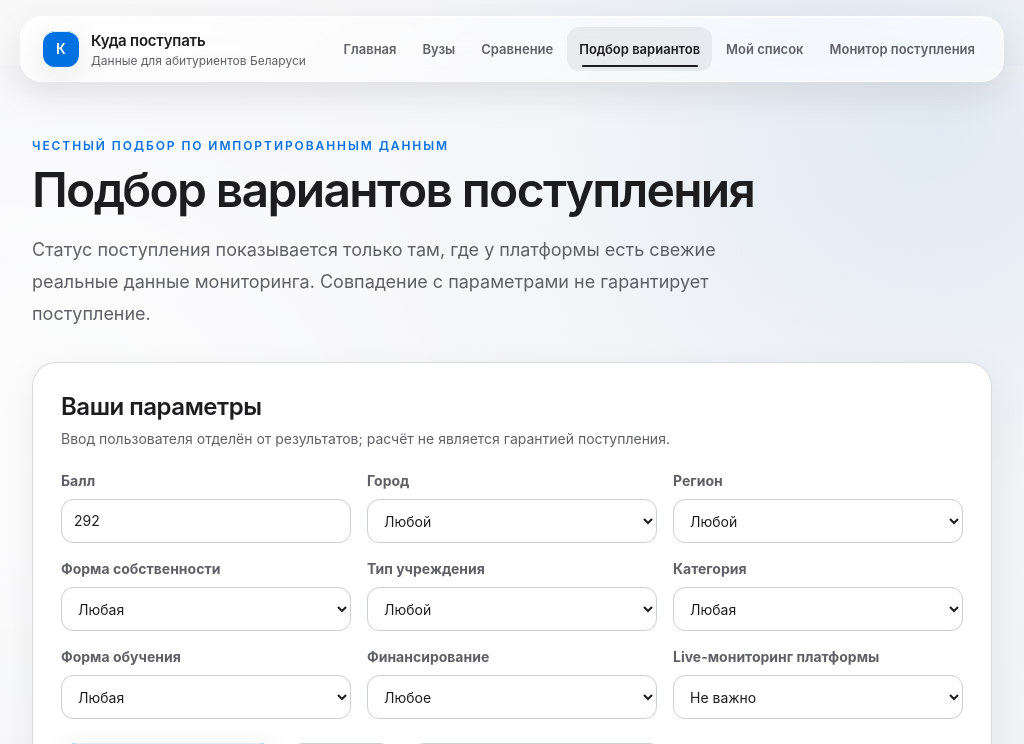
recommendations route, URL and profile score › prefills an existing score, edits URL without overwrite, and saves only explicitly
Replace the text in the number field labelled "Балл" with "300" at (206, 521), box left=61, top=499, right=351, bottom=543
(page scrolled)
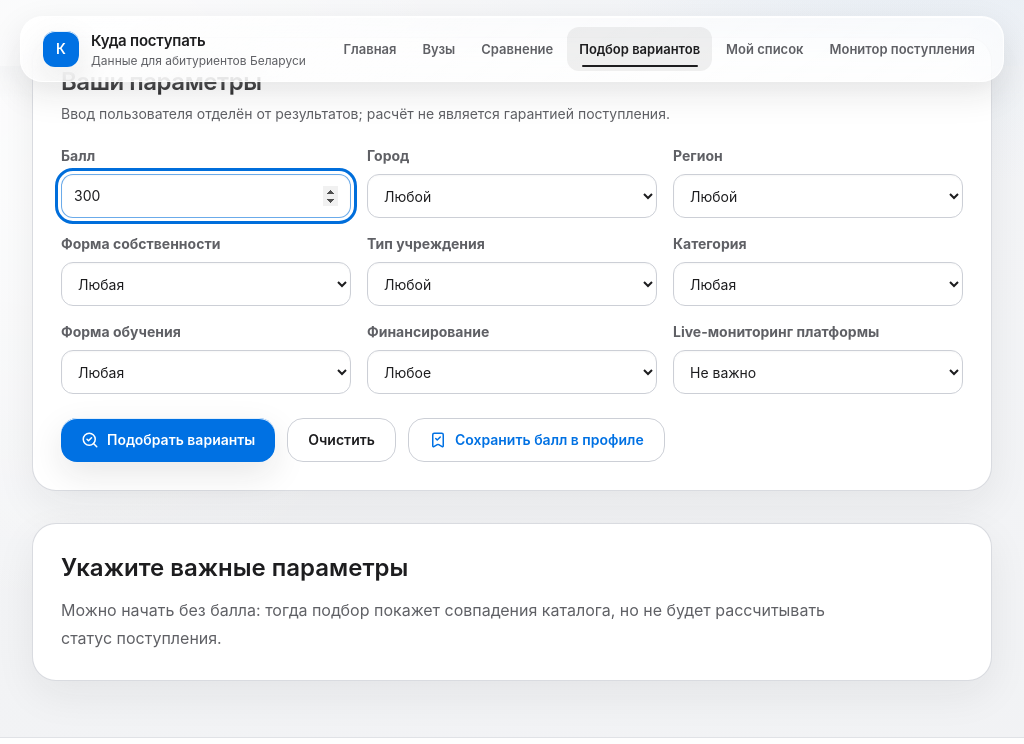
Click the button "Подобрать варианты" at (168, 440), box left=61, top=418, right=275, bottom=462
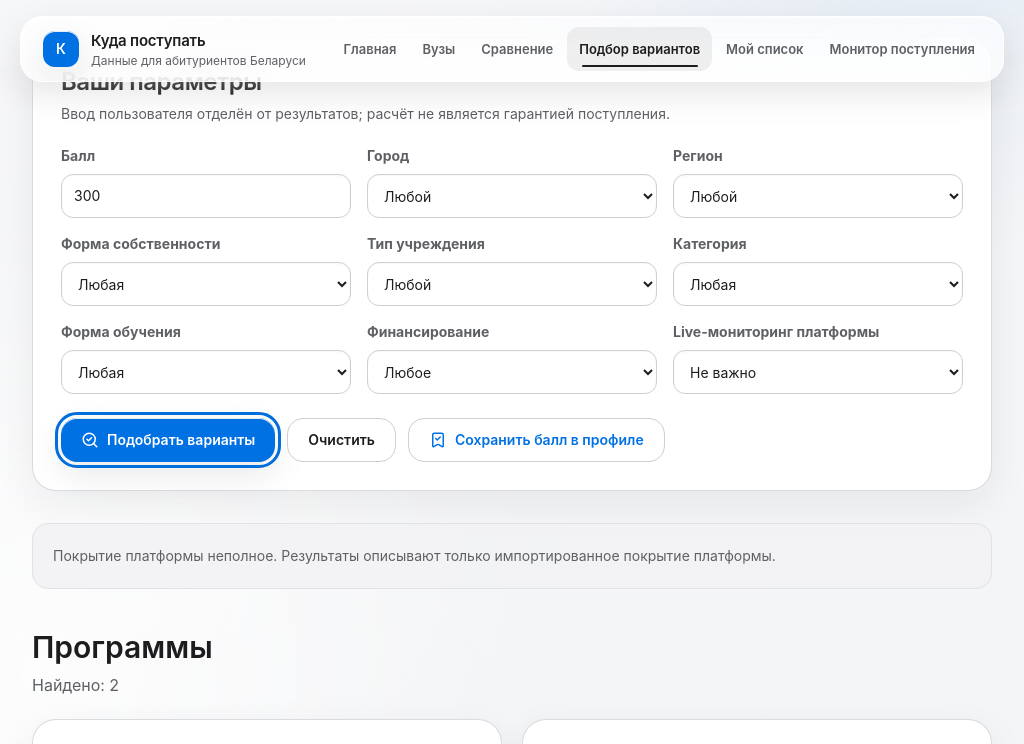
Click the button "Сохранить балл в профиле" at (536, 440), box left=408, top=418, right=665, bottom=462
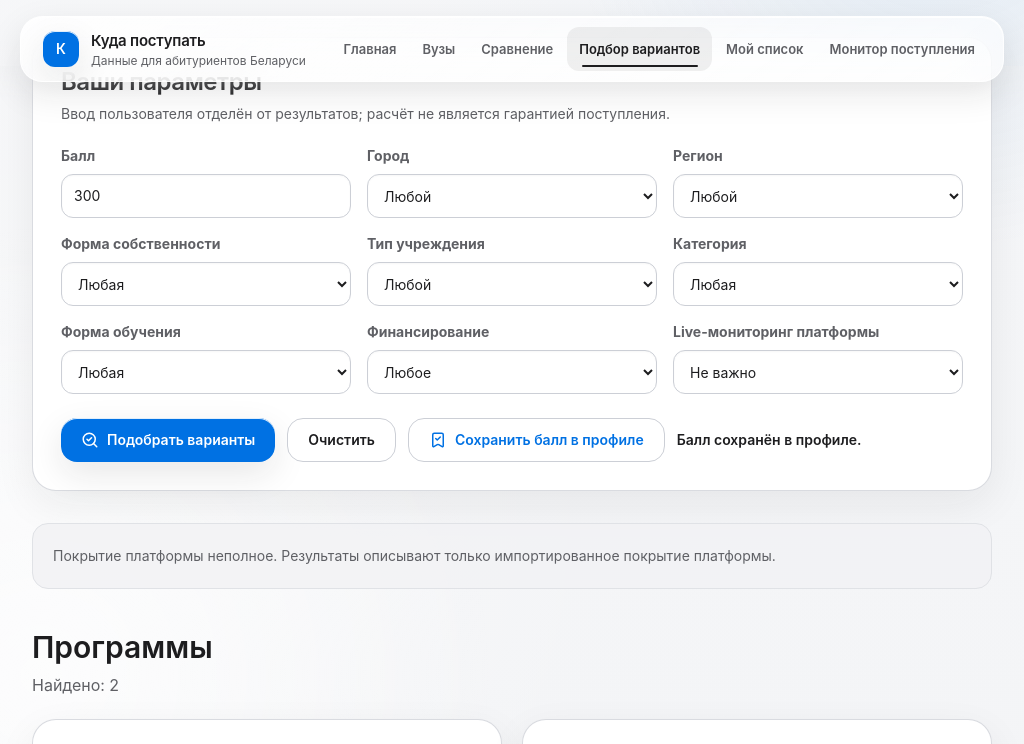
expect the text "Балл сохранён в профиле." is shown: met, box left=677, top=430, right=862, bottom=450
